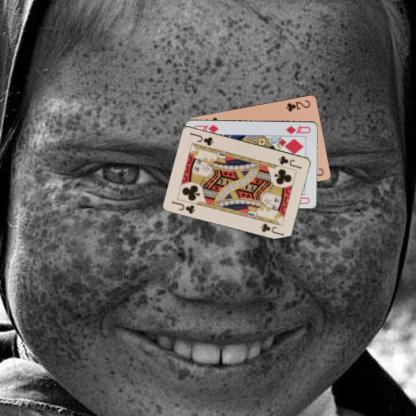2c: (284, 97, 311, 113)
Jc: (276, 153, 304, 170), (170, 198, 196, 215)
Qd: (284, 123, 312, 135)
